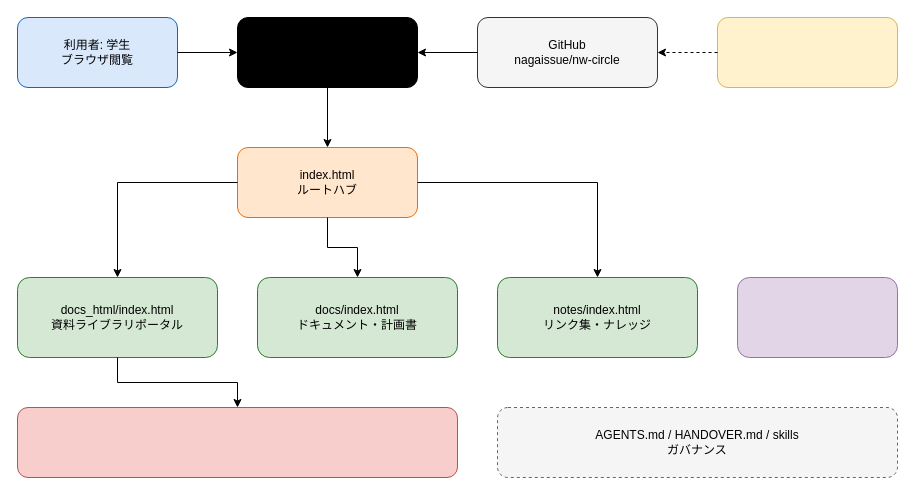
This 915x495 diagram has some shape labels left out. Here are the shapes that lost their labels. From the top down, the centre of each, then its label:
the point at 327,52: Vercel nw-circle.vercel.app
the point at 807,52: 執筆者: サークル員 Zenn CLI / HTML作成
the point at 817,317: articles/*.md Zenn記事
the point at 237,442: 学習テーマ: 通信 / OS / クラウド / AI 目標: 実機VLAN構築
